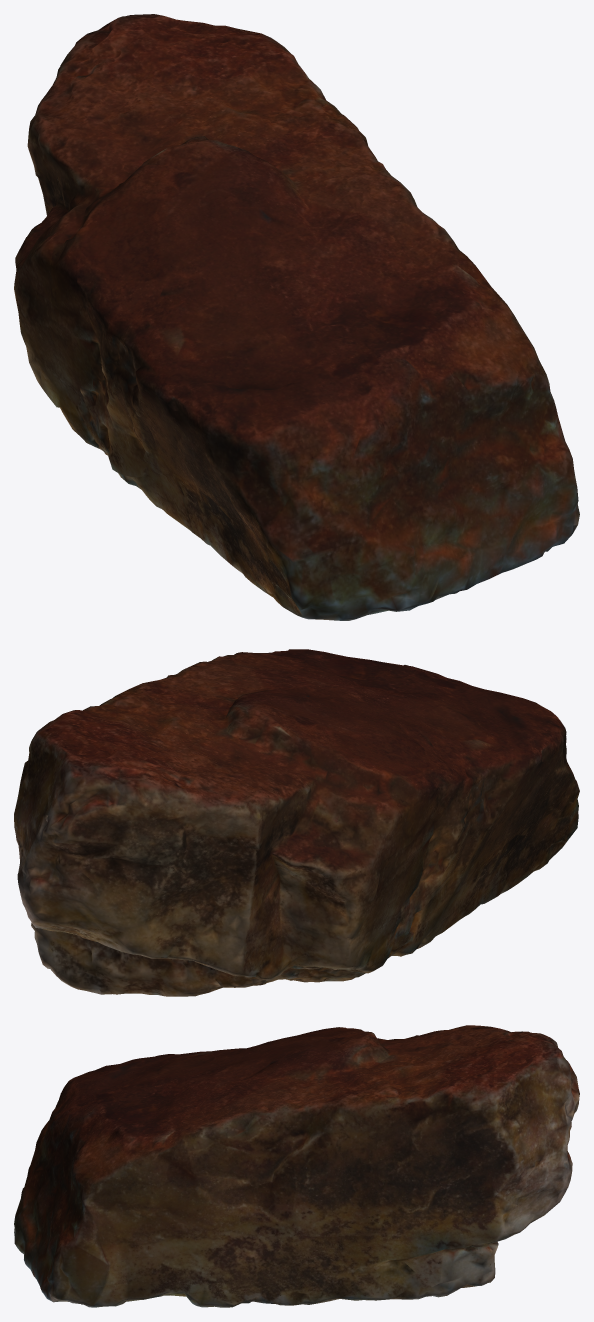
File: rock_07.glb
The picture shows the model from 3 angles, top to bottom: view 1: azimuth 30°, elevation 25°; view 2: azimuth 150°, elevation 25°; view 3: azimuth 270°, elevation 25°; orthographic projection. The views are drawn at different scales.
Parts seen in each view (by area): view 1: rock_07; view 2: rock_07; view 3: rock_07.
Part boxes in pixels (box(x1,y1,x2,y2)): rock_07: box(14, 14, 579, 620); rock_07: box(14, 649, 579, 996); rock_07: box(14, 1025, 579, 1307).
Bounding box in the file's own units: 0.1689 × 0.1437 × 0.3203.
1 material, 1 textured.
